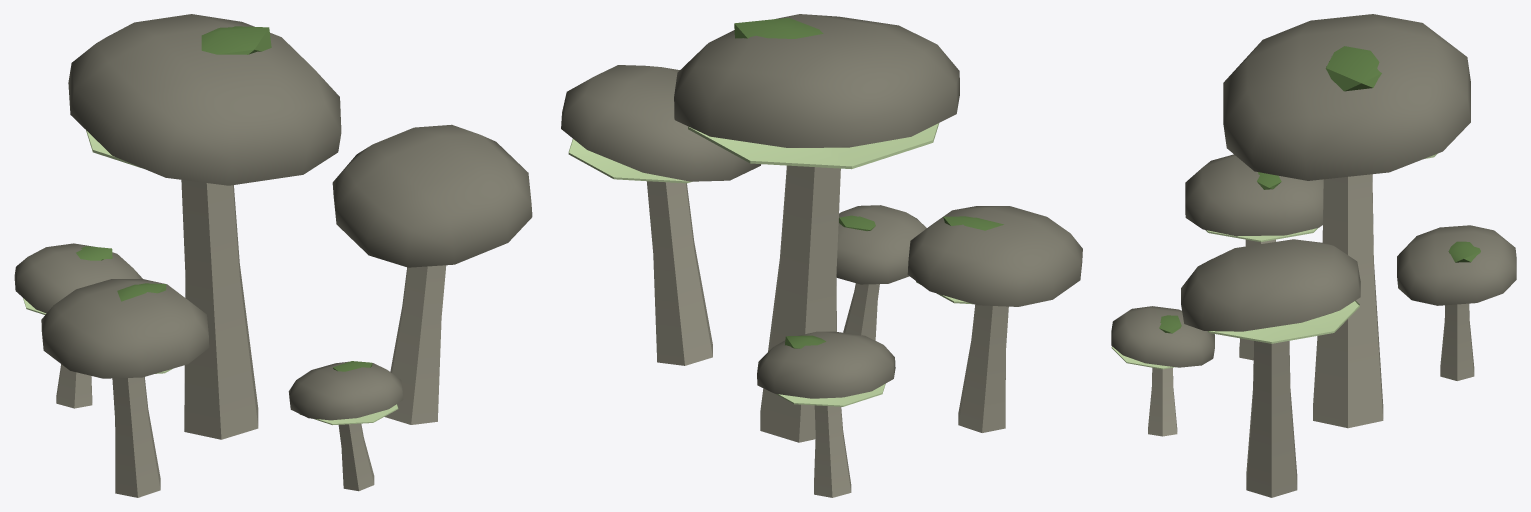
The model's file is garden_mushrooms.fbx.
3 views of the same model, side by side, from view 1: azimuth 30°, elevation 25°; view 2: azimuth 150°, elevation 25°; view 3: azimuth 270°, elevation 25° (orthographic). The views are drawn at different scales.
Parts seen in each view (by area): view 1: garden_mushrooms; view 2: garden_mushrooms; view 3: garden_mushrooms.
Boxes of the visible parts, box(x1,y1,x2,y2) form: garden_mushrooms: box(14, 14, 532, 497); garden_mushrooms: box(561, 14, 1082, 497); garden_mushrooms: box(1111, 14, 1516, 497).
Size of the model in its own units: 2.33 by 1.85 by 1.86.
